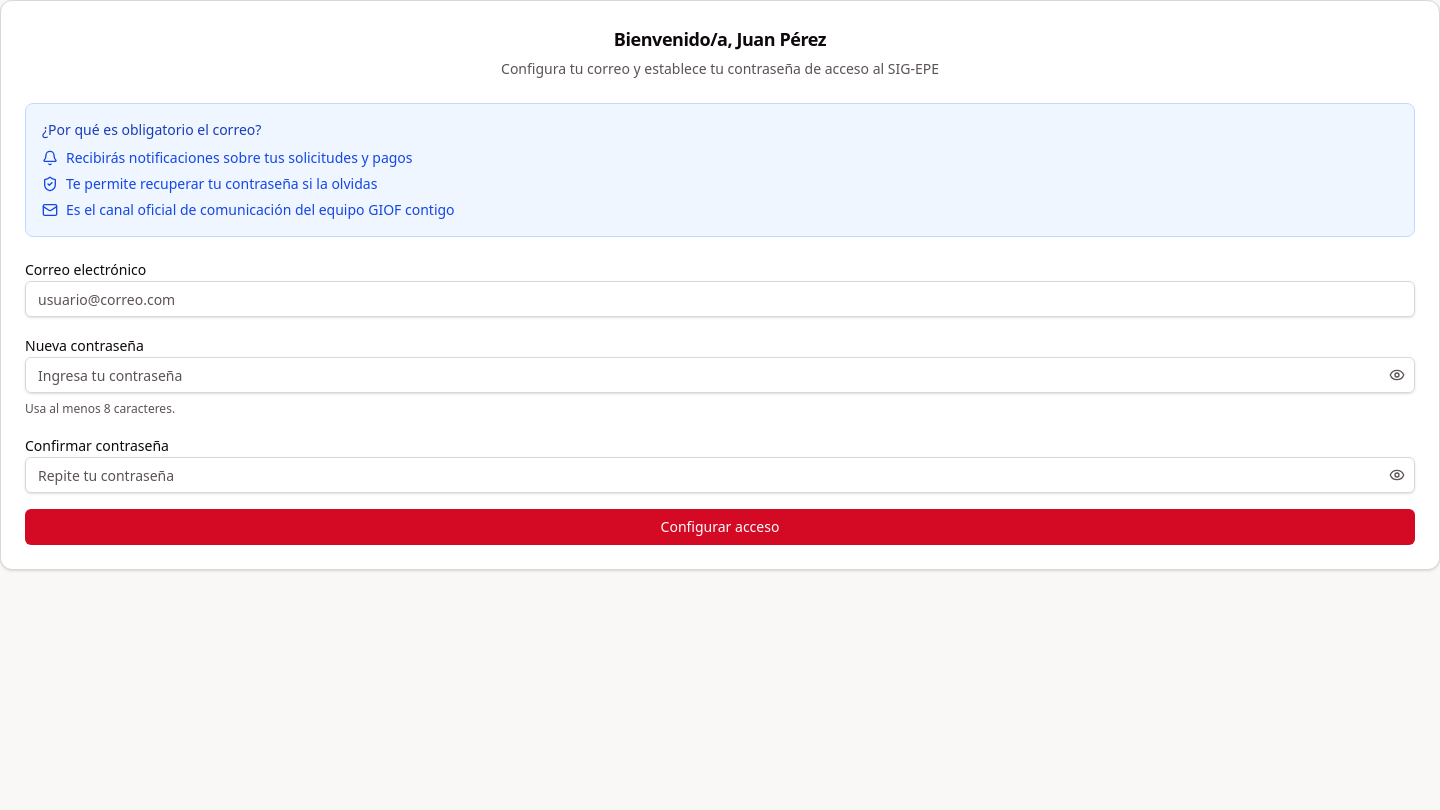
it: OnboardingForm › ✅ Valida que passwords coincidan
Type "test@example.com" into the field with placeholder "usuario@correo.com" at (720, 299), box [25,281,1415,317]
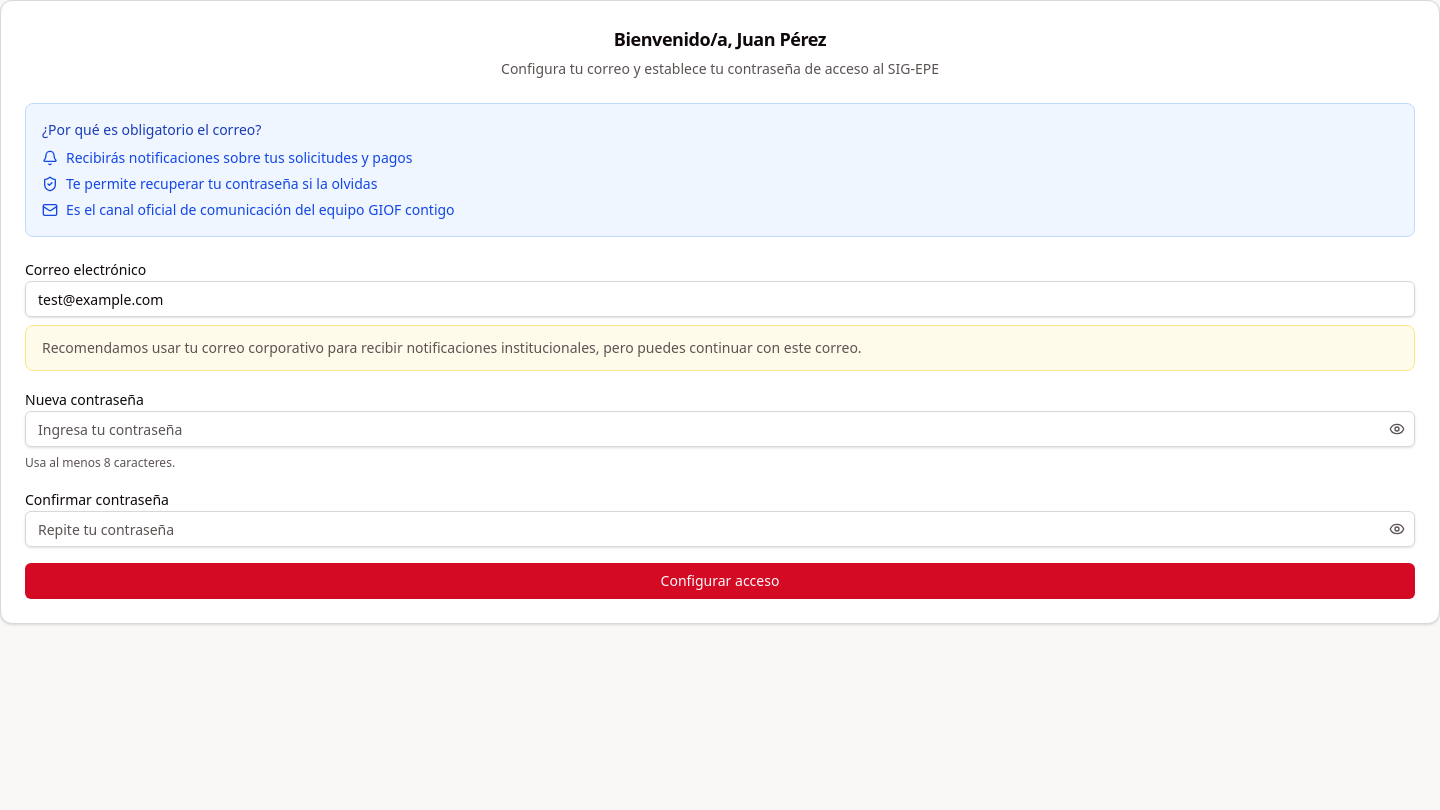
Type "Password123" into the password field with placeholder "Ingresa tu contraseña" at (720, 429), box [25,411,1415,447]
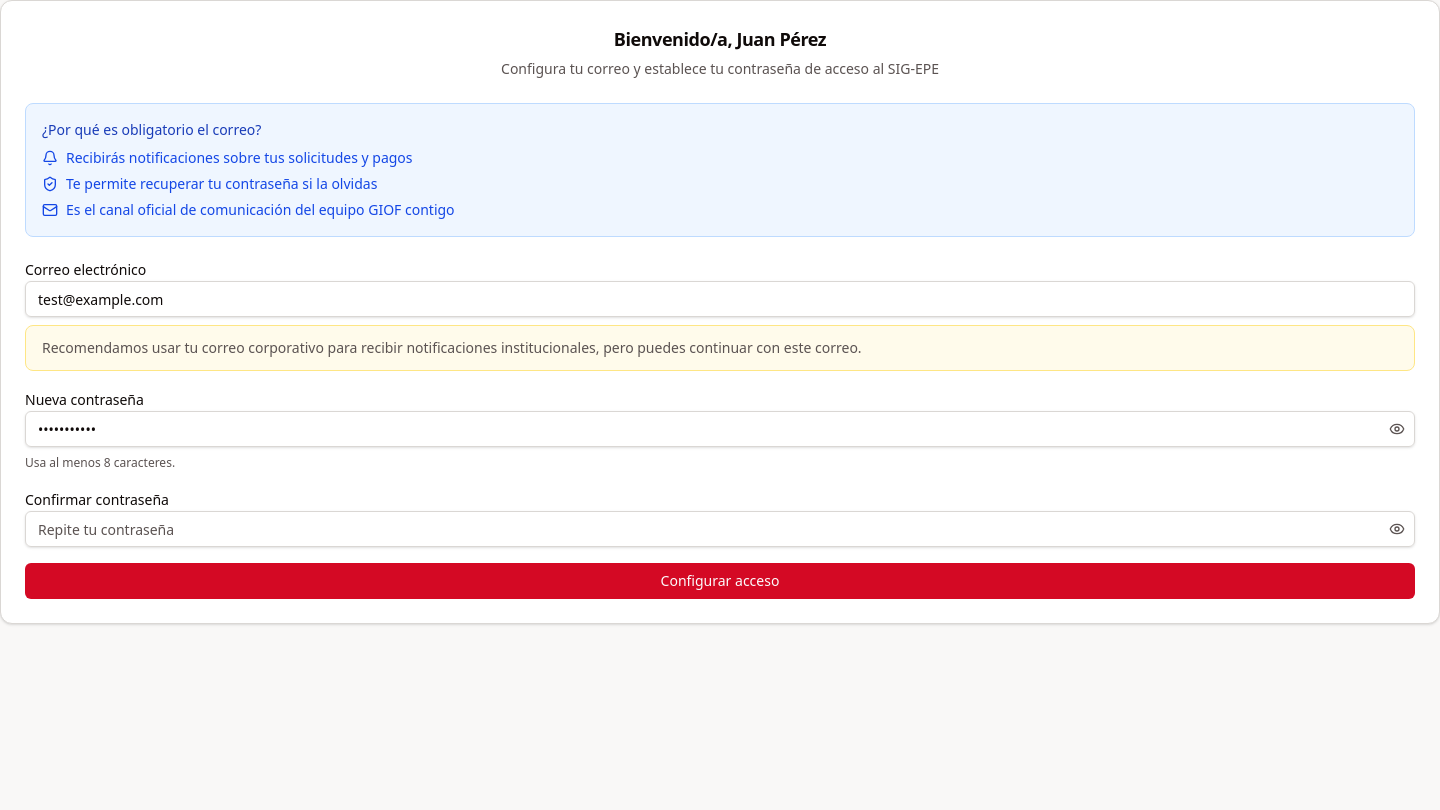
Type "DifferentPass123" into the password field with placeholder "Repite tu contraseña" at (720, 529), box [25,511,1415,547]
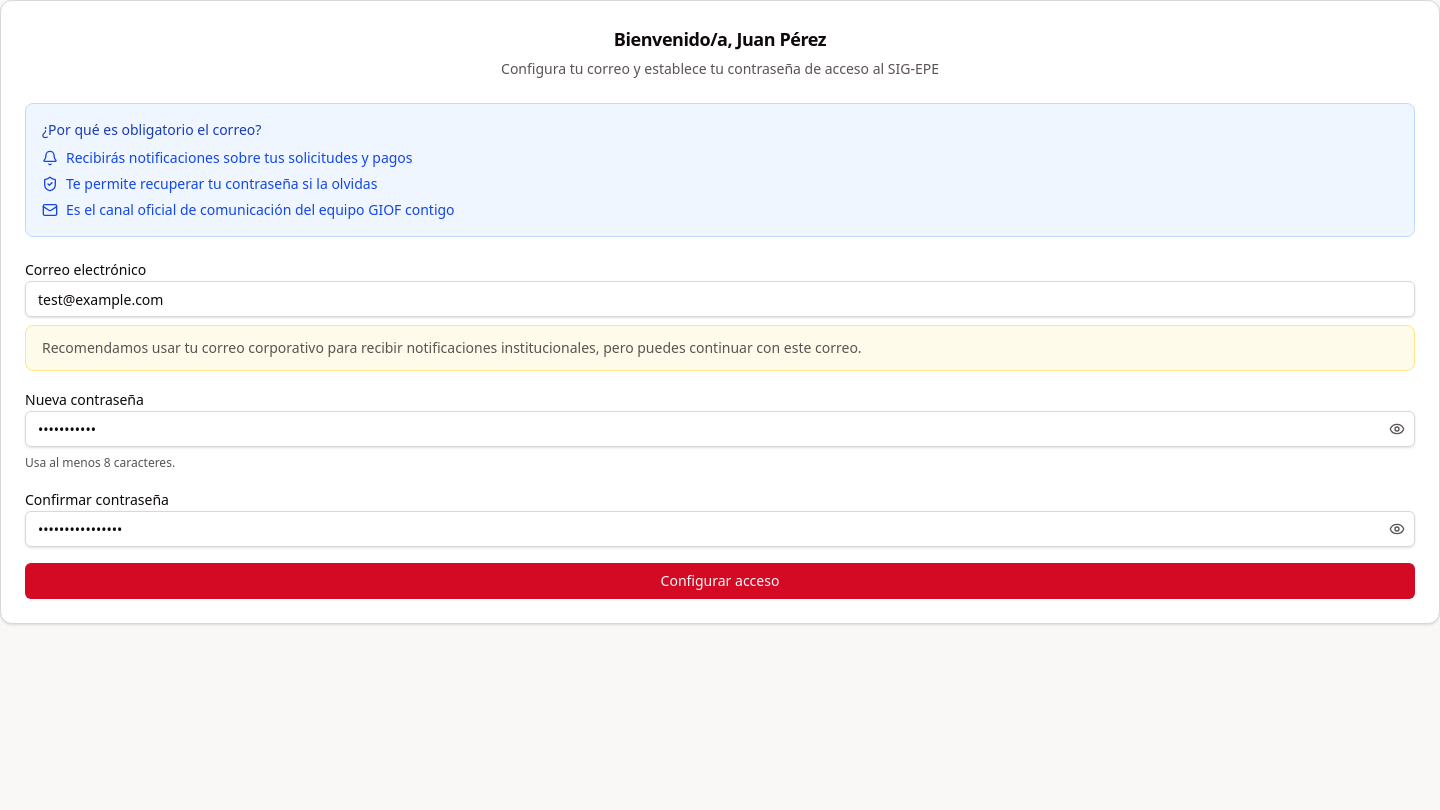
Submit the form named "configurar acceso", box [25,257,1415,599]
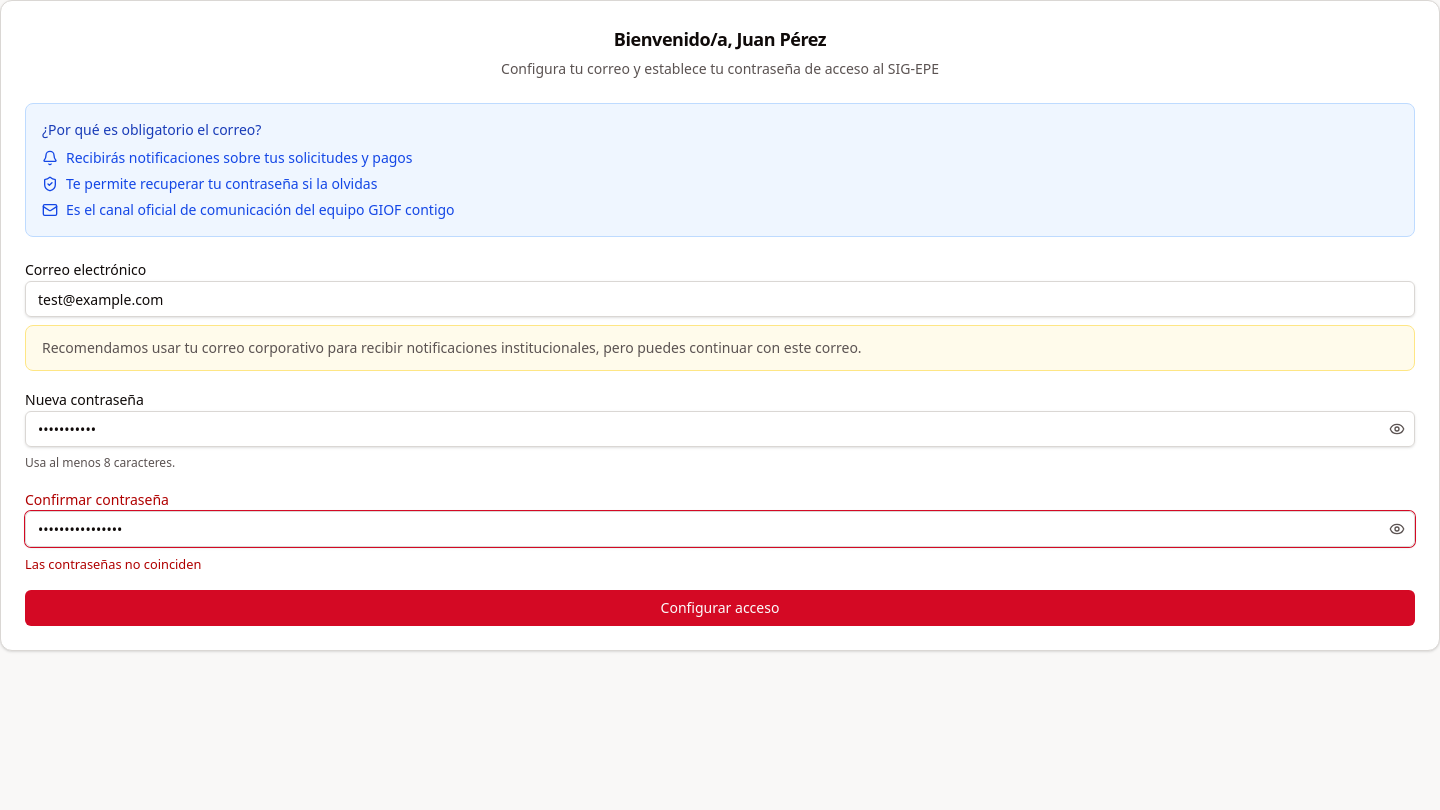
Now the text "Las contraseñas no coinciden" is shown, box [25,555,201,573]
